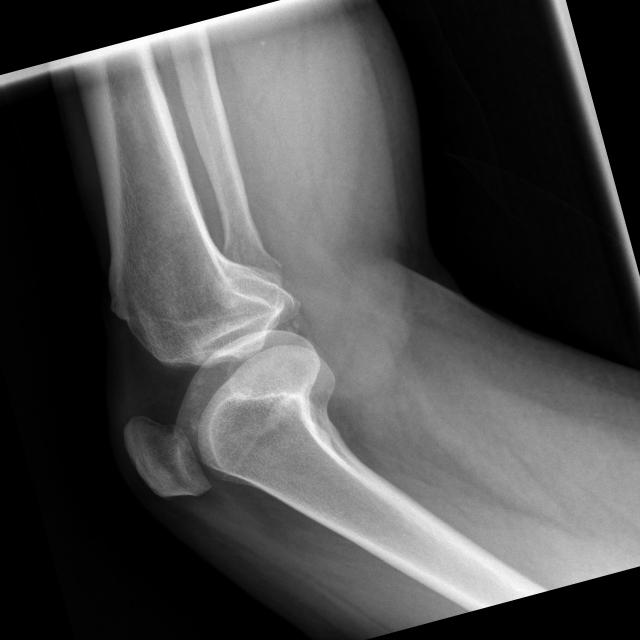Knee: (87, 240, 370, 515)
